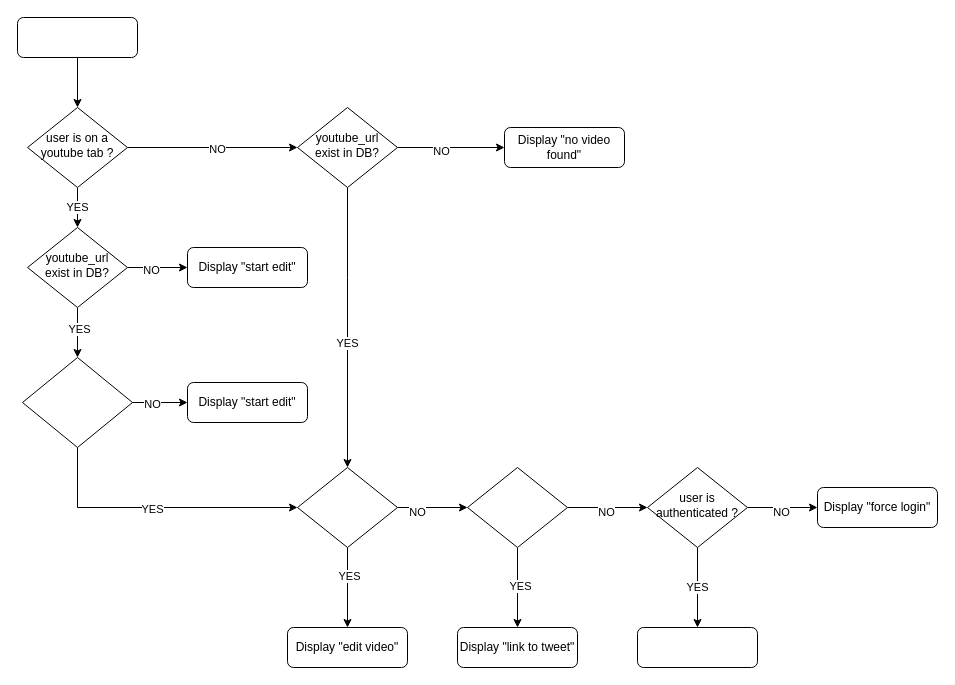
This 955x685 diagram has some shape labels left out. Here are the shapes that lost their labels. From the top down, the centre of each, then its label:
[77,37]: Open app and get user data
[77,402]: tab_url matches backend url ?
[347,507]: edit_active is true ?
[517,507]: tweet_url is set ?
[697,647]: Display "tweet video"
